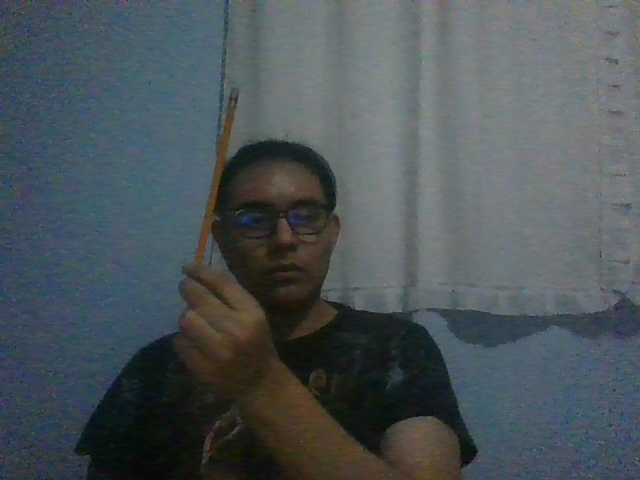lapiz: (195, 86, 239, 263)
